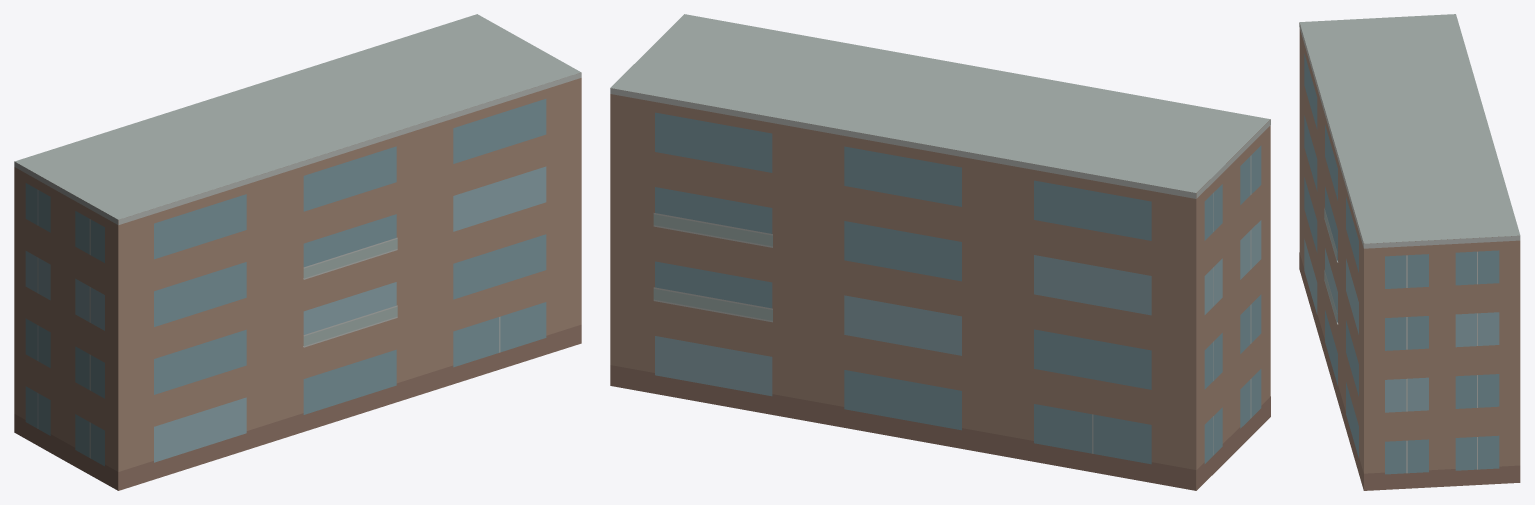
File: residential-2a328048-1488-4b44-b67a-75bfd31a65ad.glb
3 renders of one model, left to right at view 1: azimuth 30°, elevation 25°; view 2: azimuth 150°, elevation 25°; view 3: azimuth 270°, elevation 25°, orthographic. The views are drawn at different scales.
Visible parts, largest first — view 1: residential-2a328048-1488-4b44-b67a-75bfd31a65ad.tmp; view 2: residential-2a328048-1488-4b44-b67a-75bfd31a65ad.tmp; view 3: residential-2a328048-1488-4b44-b67a-75bfd31a65ad.tmp.
Boxes of the visible parts, <box> form: residential-2a328048-1488-4b44-b67a-75bfd31a65ad.tmp: <box>14,14,581,490</box>; residential-2a328048-1488-4b44-b67a-75bfd31a65ad.tmp: <box>610,14,1270,490</box>; residential-2a328048-1488-4b44-b67a-75bfd31a65ad.tmp: <box>1299,14,1520,490</box>.
Size of the model in its own units: 24.34 by 12.2 by 9.9.
